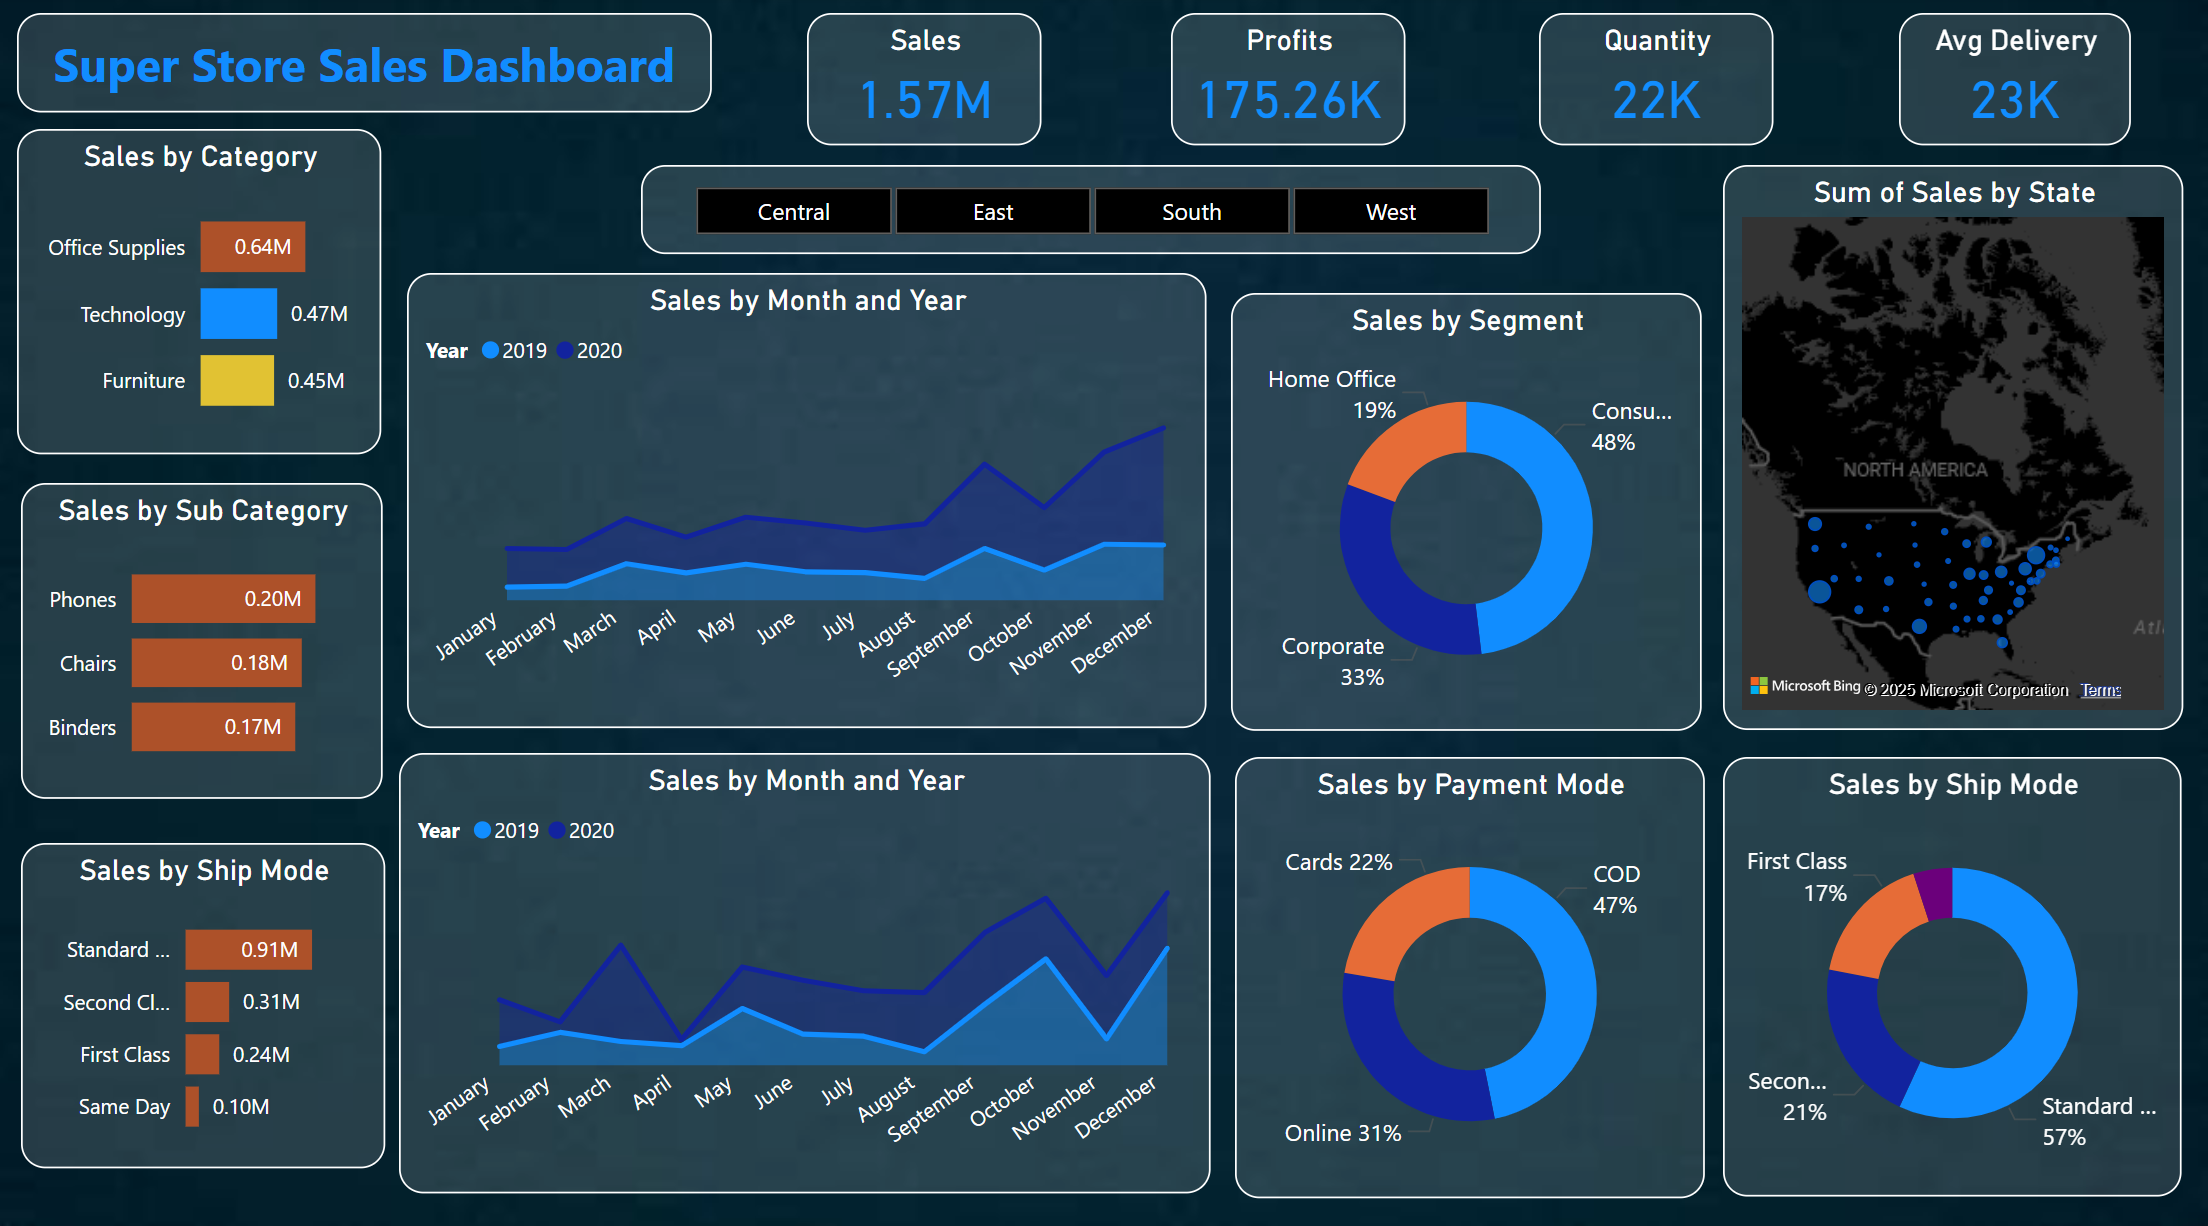

The page's visual inventory and layout, read from the dashboard file:
{"tool":"powerbi","page":{"name":"Page 1","canvas":[1280,720],"ordinal":0},"visuals":[{"type":"clusteredBarChart","title":"Sales by Category","fields":{"Category":["SuperStore Sales DataSet xlsx - Sheet1.Category"],"Y":["Sum(SuperStore Sales DataSet xlsx - Sheet1.Sales)"]},"box":[13.2,77.9,210.3,188.2],"z":0},{"type":"clusteredBarChart","title":"Sales by Sub Category","fields":{"Category":["SuperStore Sales DataSet xlsx - Sheet1.Sub-Category"],"Y":["Sum(SuperStore Sales DataSet xlsx - Sheet1.Sales)"]},"box":[14.7,282.4,208.8,182.4],"z":1000},{"type":"clusteredBarChart","title":"Sales by Ship Mode","fields":{"Category":["SuperStore Sales DataSet xlsx - Sheet1.Ship Mode"],"Y":["Sum(SuperStore Sales DataSet xlsx - Sheet1.Sales)"]},"box":[14.7,489.7,210.3,188.2],"z":2000},{"type":"stackedAreaChart","title":"Sales by Month and Year","fields":{"Category":["SuperStore Sales DataSet xlsx - Sheet1.Order Date.Variation.Date Hierarchy.Month"],"Y":["Sum(SuperStore Sales DataSet xlsx - Sheet1.Sales)"],"Series":["SuperStore Sales DataSet xlsx - Sheet1.Order Date.Variation.Date Hierarchy.Year"]},"box":[238.2,160.3,461.8,263.2],"z":3000},{"type":"stackedAreaChart","title":"Sales by Month and Year","fields":{"Category":["SuperStore Sales DataSet xlsx - Sheet1.Order Date.Variation.Date Hierarchy.Month"],"Series":["SuperStore Sales DataSet xlsx - Sheet1.Order Date.Variation.Date Hierarchy.Year"],"Y":["Sum(SuperStore Sales DataSet xlsx - Sheet1.Profit)"]},"box":[233.8,438.2,469.1,254.4],"z":4000},{"type":"map","fields":{"Category":["SuperStore Sales DataSet xlsx - Sheet1.State"],"Size":["Sum(SuperStore Sales DataSet xlsx - Sheet1.Sales)"]},"box":[998.5,98.5,266.2,326.5],"z":5000},{"type":"donutChart","title":"Sales by Segment","fields":{"Category":["SuperStore Sales DataSet xlsx - Sheet1.Segment"],"Y":["Sum(SuperStore Sales DataSet xlsx - Sheet1.Sales)"]},"box":[714.7,172.1,272.1,252.9],"z":6000},{"type":"donutChart","title":"Sales by Payment Mode","fields":{"Category":["SuperStore Sales DataSet xlsx - Sheet1.Payment Mode"],"Y":["Sum(SuperStore Sales DataSet xlsx - Sheet1.Profit)"]},"box":[716.2,440,271.2,255],"z":7000},{"type":"slicer","title":"Sales by Ship Mode","fields":{"Values":["SuperStore Sales DataSet xlsx - Sheet1.Region"]},"box":[372.9,98.6,520,51.4],"z":8000},{"type":"textbox","box":[13.2,10.3,401.5,57.4],"z":9000},{"type":"donutChart","title":"Sales by Ship Mode","fields":{"Category":["SuperStore Sales DataSet xlsx - Sheet1.Ship Mode"],"Y":["Sum(SuperStore Sales DataSet xlsx - Sheet1.Profit)"]},"box":[998.8,440,265,253.8],"z":10000},{"type":"card","title":"Sales","fields":{"Values":["Sum(SuperStore Sales DataSet xlsx - Sheet1.Sales)"]},"box":[469.1,10.3,135.3,76.5],"z":11000},{"type":"card","title":"Profits","fields":{"Values":["Sum(SuperStore Sales DataSet xlsx - Sheet1.Profit)"]},"box":[679.4,10.3,135.3,76.5],"z":12000},{"type":"card","title":"Quantity","fields":{"Values":["Sum(SuperStore Sales DataSet xlsx - Sheet1.Quantity)"]},"box":[892.6,10.3,135.3,76.5],"z":13000},{"type":"card","title":"Avg Delivery","fields":{"Values":["Sum(SuperStore Sales DataSet xlsx - Sheet1.AvgDelivery)"]},"box":[1100,10.3,133.8,76.5],"z":14000}]}

Visuals, with their boxes in screenshot pixels (x1, y1, x2, y2), scaled from the page's 1280x720 canvas onto the 2208x1226 screenshot:
"Sales by Category" clusteredBarChart: left=23, top=133, right=386, bottom=453
"Sales by Sub Category" clusteredBarChart: left=25, top=481, right=386, bottom=791
"Sales by Ship Mode" clusteredBarChart: left=25, top=834, right=388, bottom=1154
"Sales by Month and Year" stackedAreaChart: left=411, top=273, right=1208, bottom=721
"Sales by Month and Year" stackedAreaChart: left=403, top=746, right=1213, bottom=1179
map - SuperStore Sales DataSet xlsx - Sheet1.State x Sum(SuperStore Sales DataSet xlsx - Sheet1.Sales): left=1722, top=168, right=2182, bottom=724
"Sales by Segment" donutChart: left=1233, top=293, right=1702, bottom=724
"Sales by Payment Mode" donutChart: left=1235, top=749, right=1703, bottom=1183
"Sales by Ship Mode" slicer: left=643, top=168, right=1540, bottom=255
textbox: left=23, top=18, right=715, bottom=115
"Sales by Ship Mode" donutChart: left=1723, top=749, right=2180, bottom=1181
"Sales" card: left=809, top=18, right=1043, bottom=148
"Profits" card: left=1172, top=18, right=1405, bottom=148
"Quantity" card: left=1540, top=18, right=1773, bottom=148
"Avg Delivery" card: left=1898, top=18, right=2128, bottom=148
